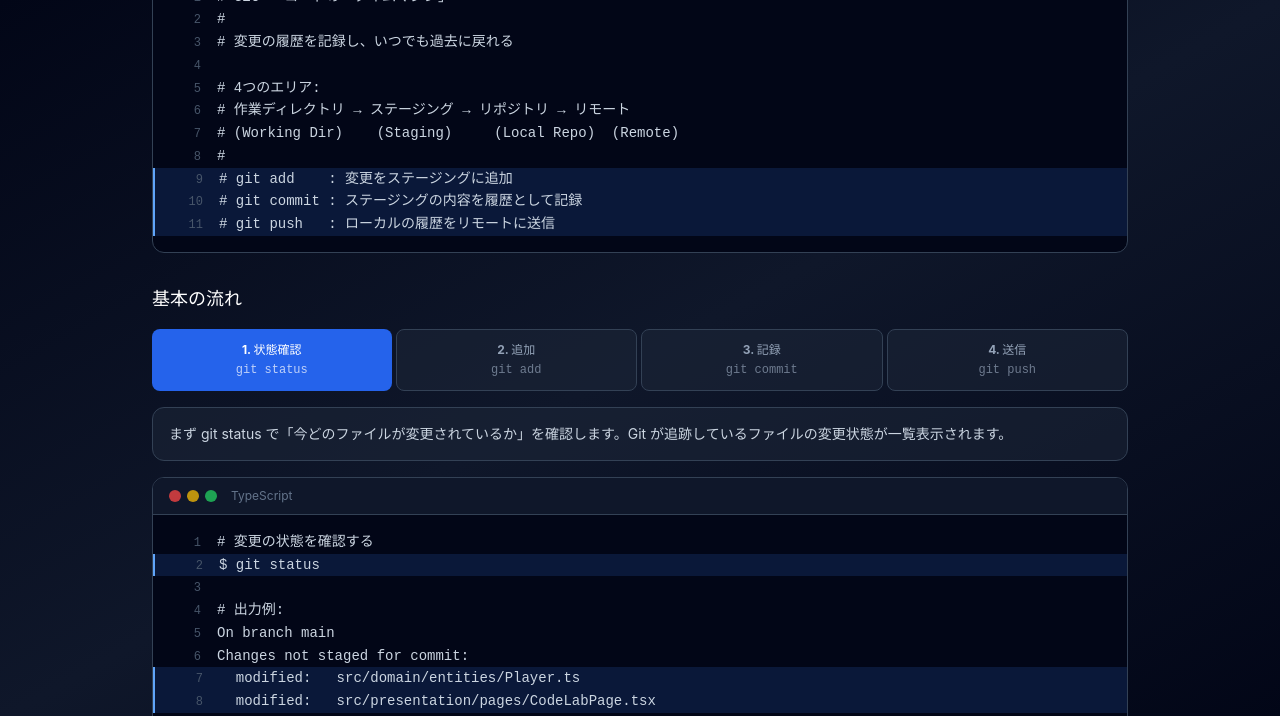
GitBasicsLesson interactions › should switch to Stage step
This screenshot has width=1280, height=716.
(page scrolled)
Click the button "2. 追加 git add" at coordinates (516, 360), box [396, 329, 637, 391]
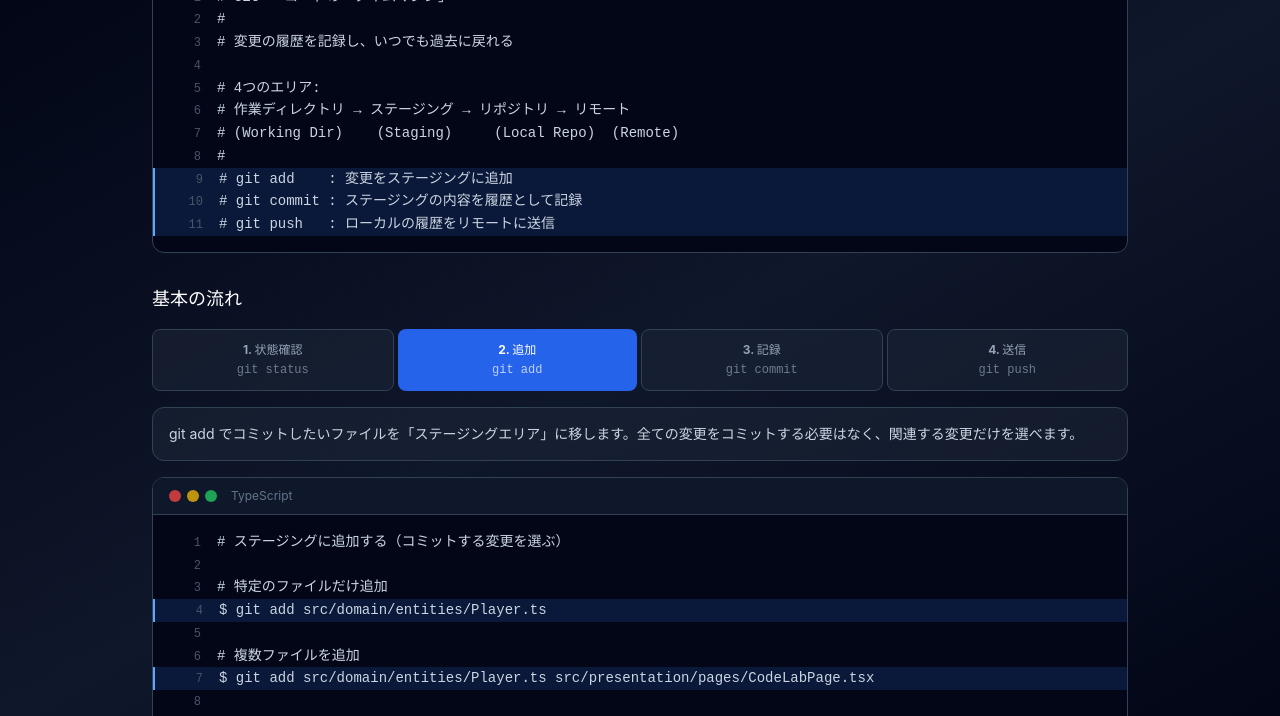
expect the text "ステージングエリア" is shown: met, box [169, 425, 1083, 442]
